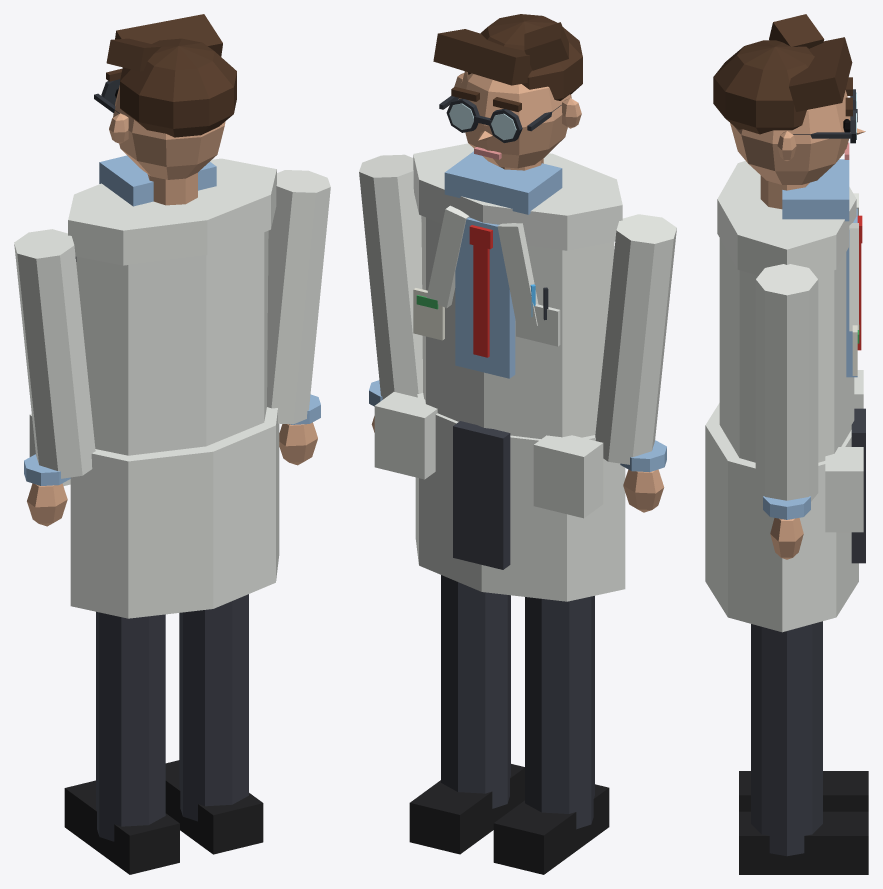
File: player_body.glb
The picture shows the model from 3 angles, left to right: view 1: azimuth 30°, elevation 25°; view 2: azimuth 150°, elevation 25°; view 3: azimuth 270°, elevation 25°; orthographic projection.
Parts seen in each view (by area): view 1: player_body; view 2: player_body; view 3: player_body.
Boxes of the visible parts, bbox=[...] form: player_body: bbox=[14, 14, 330, 874]; player_body: bbox=[359, 14, 676, 874]; player_body: bbox=[705, 14, 868, 874].
Size of the model in its own units: 0.7436 by 1.85 by 0.34.
Materials: 1 (1 with a texture image).
